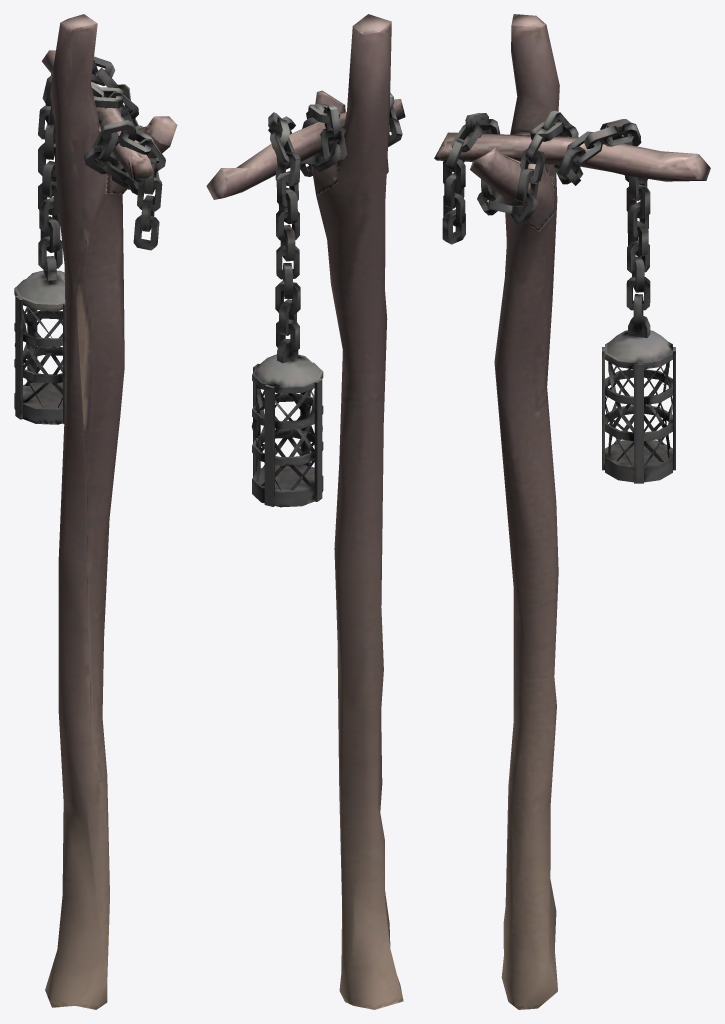
File: neutral_creep_camp001e.fbx
The picture shows the model from 3 angles, left to right: view 1: azimuth 30°, elevation 25°; view 2: azimuth 150°, elevation 25°; view 3: azimuth 270°, elevation 25°; orthographic projection.
Parts seen in each view (by area): view 1: neutral_creep_camp001e; view 2: neutral_creep_camp001e; view 3: neutral_creep_camp001e.
Part boxes in pixels (x1,y1,x2,y2): neutral_creep_camp001e: [14, 14, 177, 1009]; neutral_creep_camp001e: [206, 14, 405, 1009]; neutral_creep_camp001e: [434, 14, 710, 1009].
Size of the model in its own units: 38.6 by 331 by 84.84.
